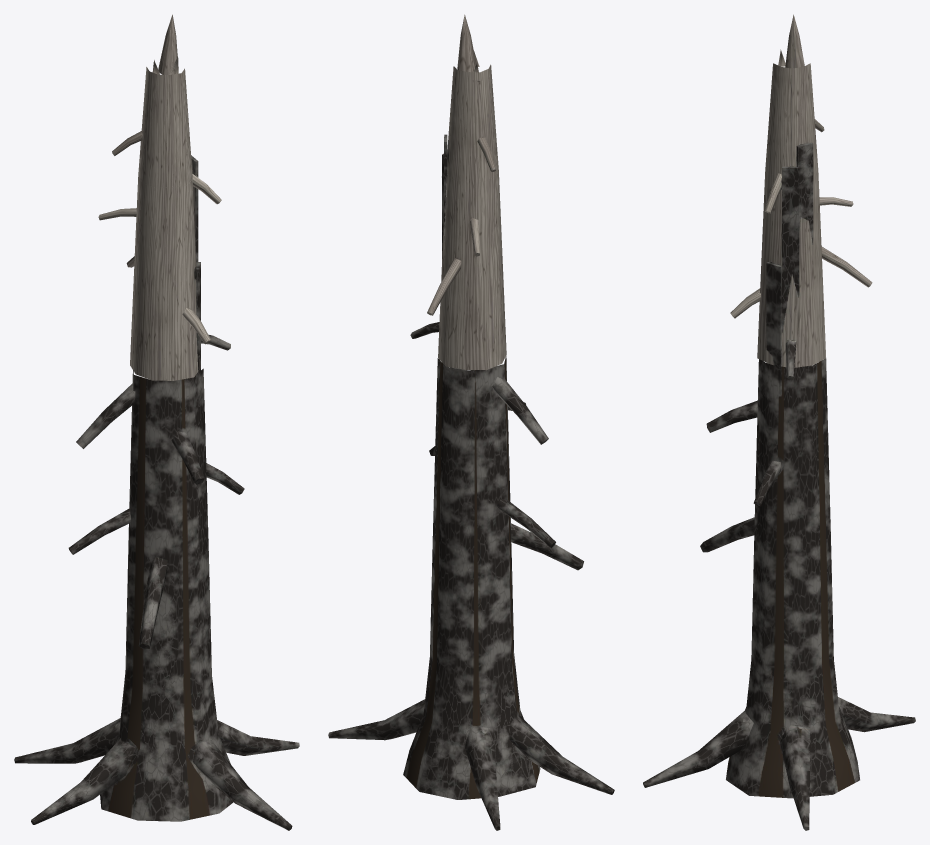
File: trees.glb
The picture shows the model from 3 angles, left to right: view 1: azimuth 30°, elevation 25°; view 2: azimuth 150°, elevation 25°; view 3: azimuth 270°, elevation 25°; orthographic projection. The views are drawn at different scales.
Visible parts, largest first — view 1: burnt_snag; view 2: burnt_snag; view 3: burnt_snag.
Boxes of the visible parts, x1,y1,x2,y2 form: burnt_snag: (14, 14, 299, 830); burnt_snag: (328, 14, 614, 830); burnt_snag: (643, 14, 915, 830).
Bounding box in the file's own units: 2 × 5.32 × 1.73.
1 material, 1 textured.
